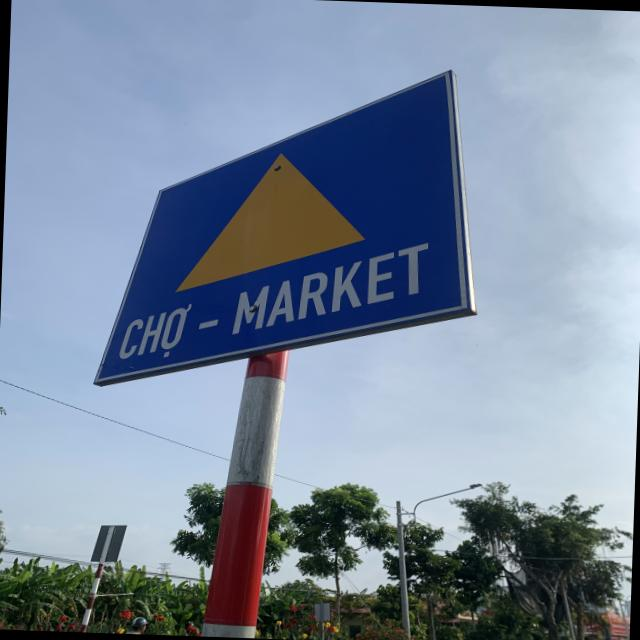Cho_Quay_Xe: (96, 59, 478, 395)
